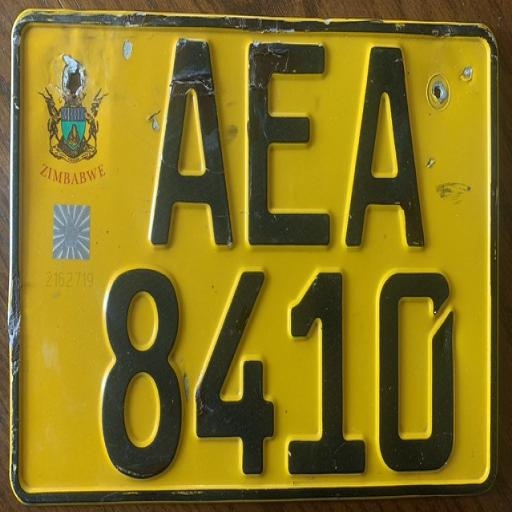number-plates: (20, 14, 492, 488)
